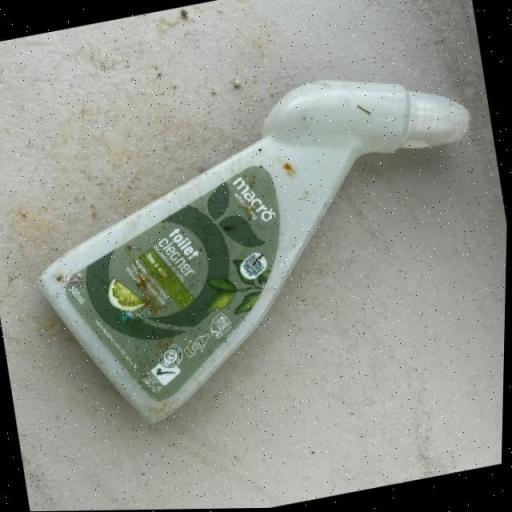plastic: (11, 51, 511, 441)
